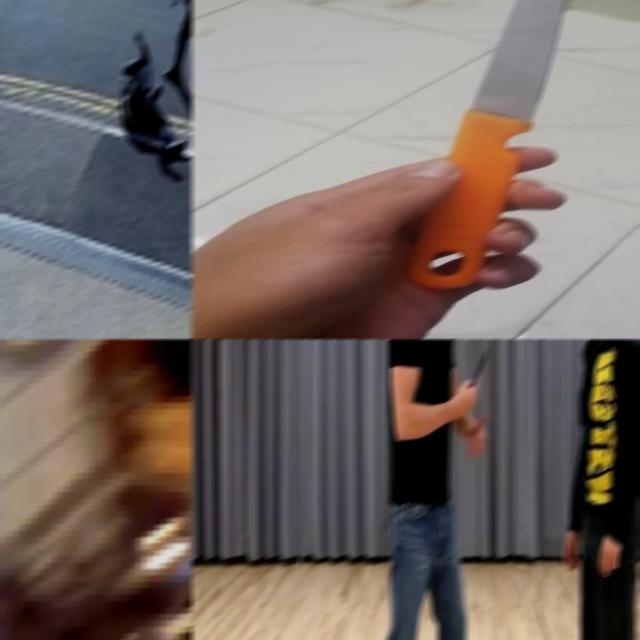Knife: (408, 0, 566, 288)
Knife_Handle: (458, 349, 489, 413), (169, 0, 186, 8)
